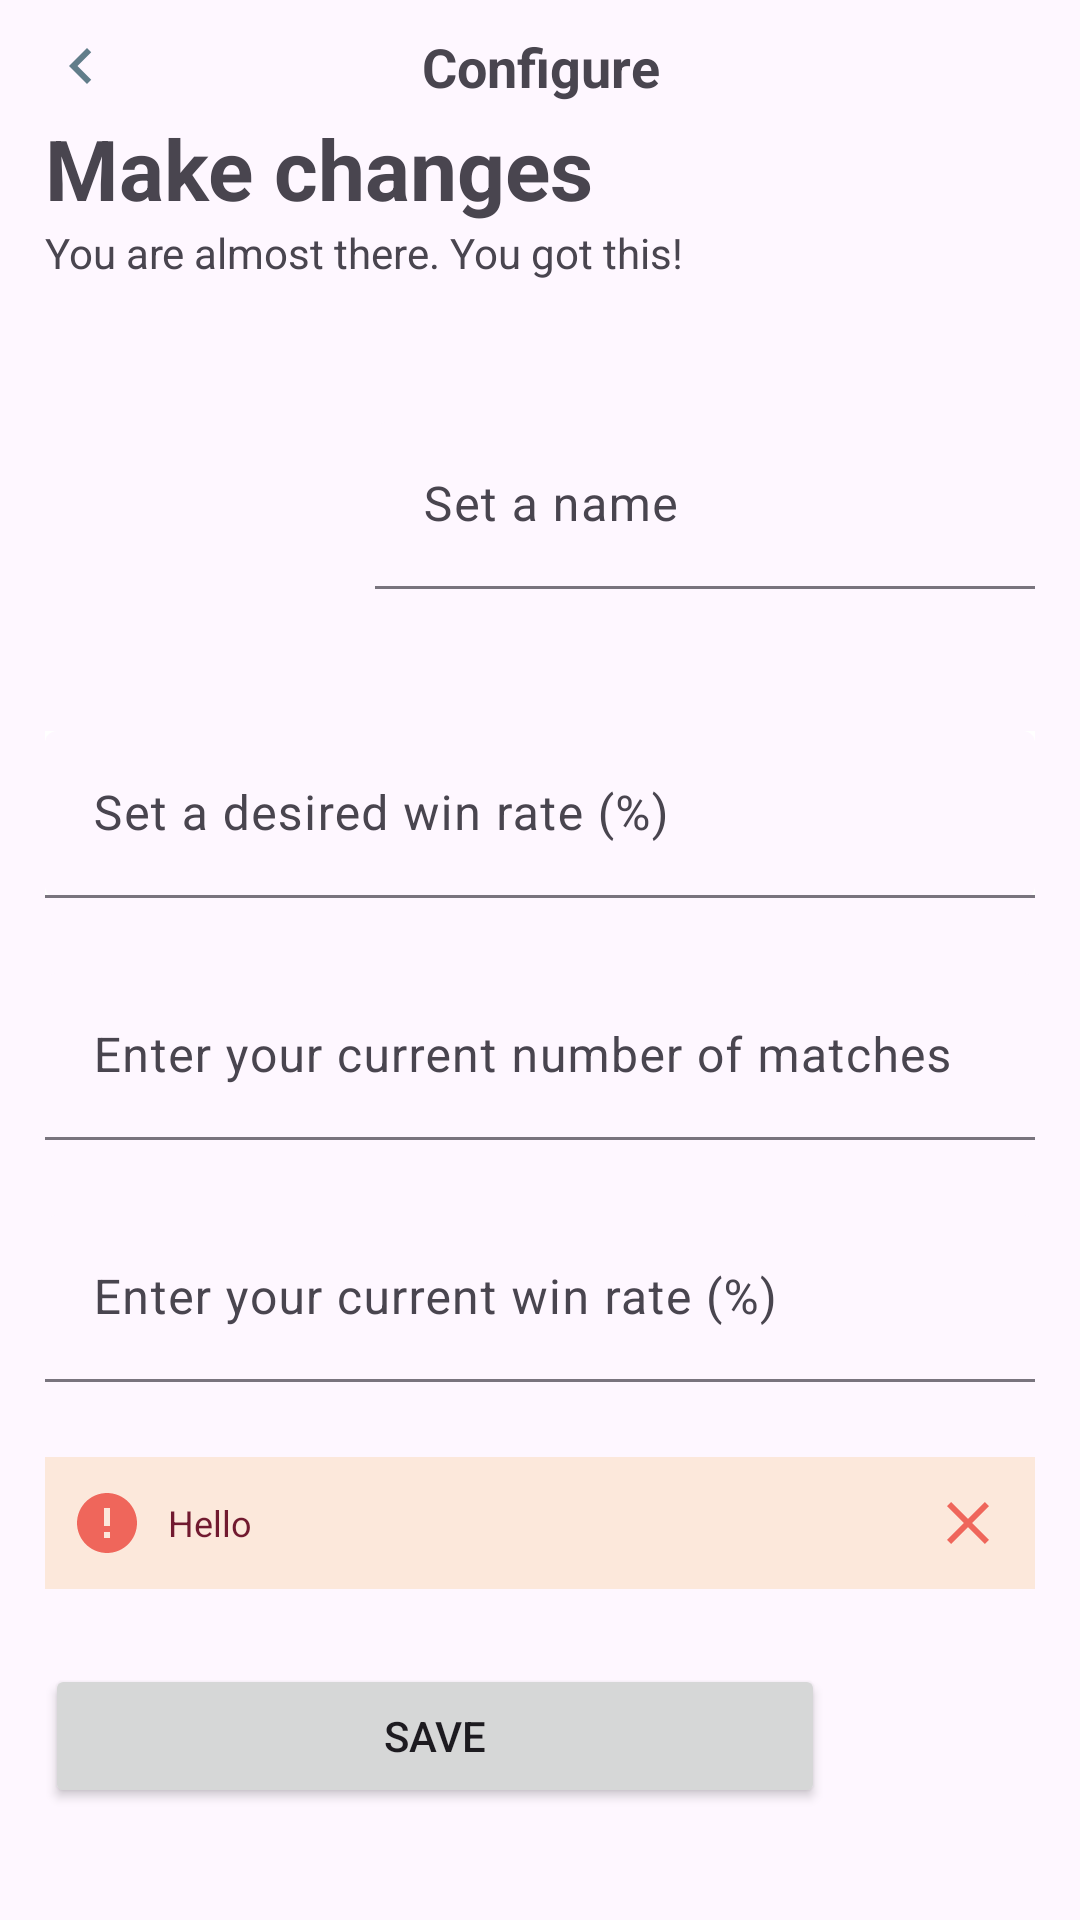

Icons on this 1080x1920 Android screen, each with its box as {"x1": x1, "y1": y1, "x2": x2, "y2": y2}:
chevron left: {"x1": 69, "y1": 48, "x2": 91, "y2": 84}
Close Button: {"x1": 947, "y1": 1502, "x2": 989, "y2": 1544}
